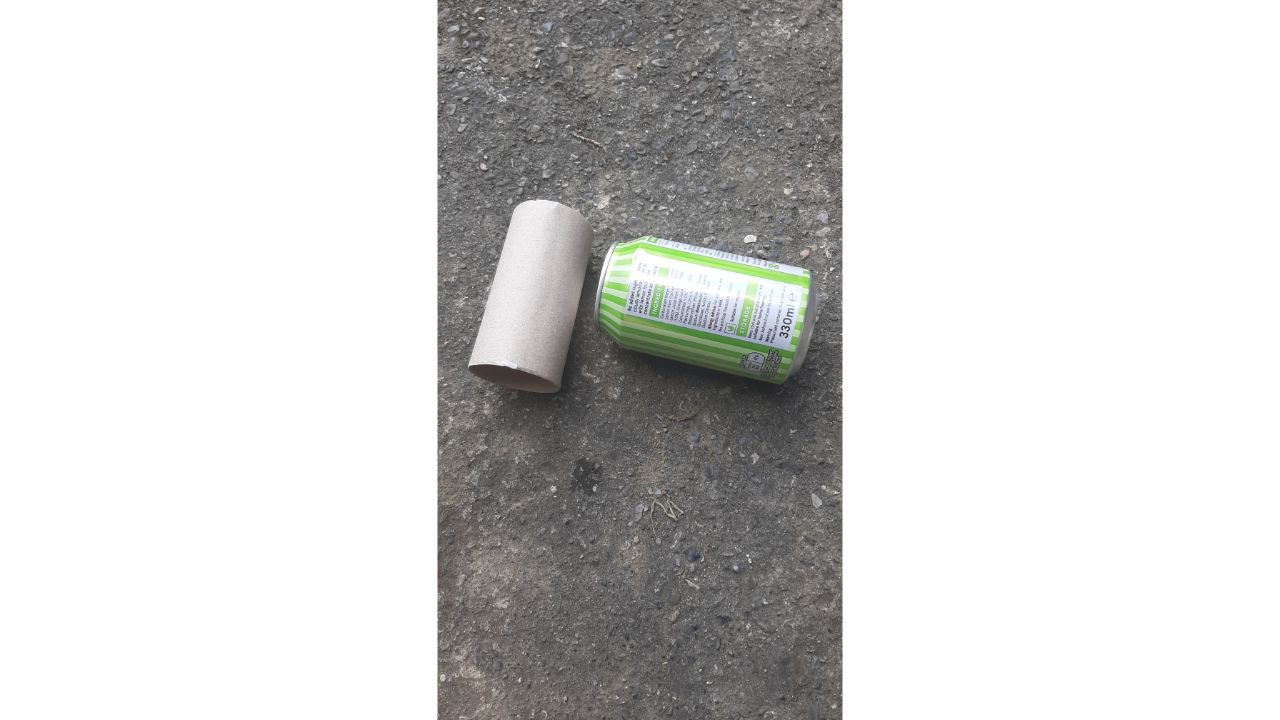Can: (588, 230, 826, 396)
